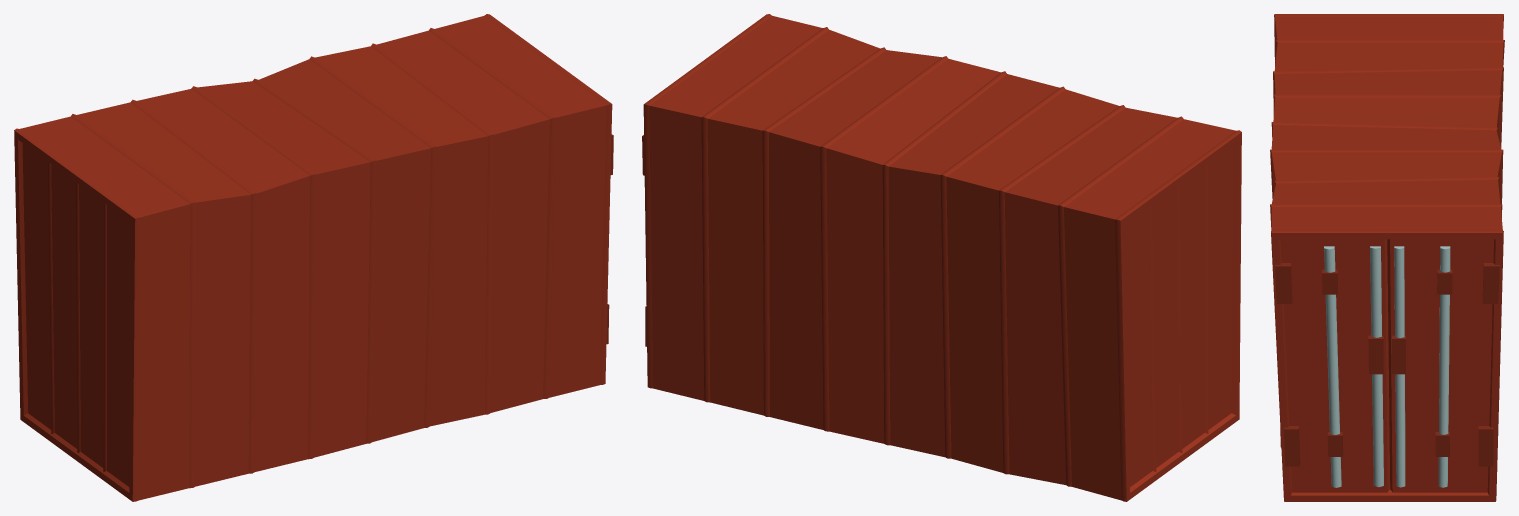
File: BO_Container_02.fbx
The picture shows the model from 3 angles, left to right: view 1: azimuth 30°, elevation 25°; view 2: azimuth 150°, elevation 25°; view 3: azimuth 270°, elevation 25°; orthographic projection. The views are drawn at different scales.
Parts seen in each view (by area): view 1: BO_Container_02; view 2: BO_Container_02; view 3: BO_Container_02.
Part boxes in pixels (x1=…): BO_Container_02: x1=14, y1=14, x2=613, y2=501; BO_Container_02: x1=642, y1=14, x2=1241, y2=501; BO_Container_02: x1=1270, y1=14, x2=1504, y2=501.
Size of the model in its own units: 700 by 400 by 315.
